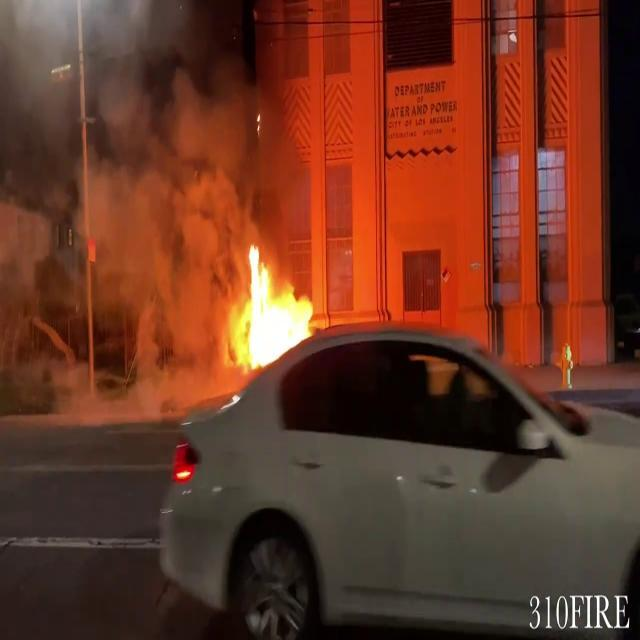Fire: (228, 242, 320, 372)
Smoke: (0, 0, 296, 293)
